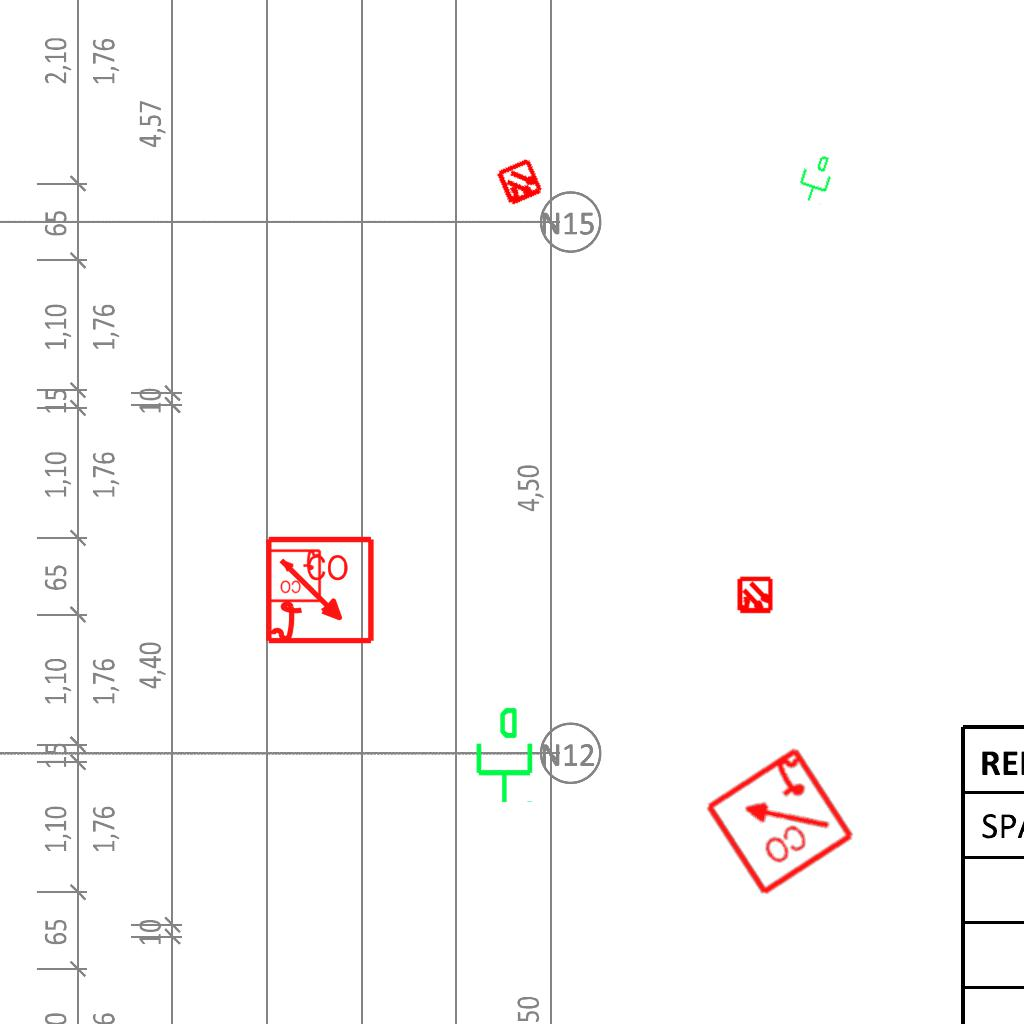Datenanschluss_einfach: (468, 705, 537, 805), (791, 148, 839, 208)
OT_Multisensormelder_(Kombination_RMO_WMD): (483, 146, 557, 220), (727, 568, 783, 624)
ROA_Rauchmelder_optisch_mit_Signalgeber_(Sockelsirene): (700, 742, 857, 899), (264, 535, 377, 648), (266, 547, 322, 603)
